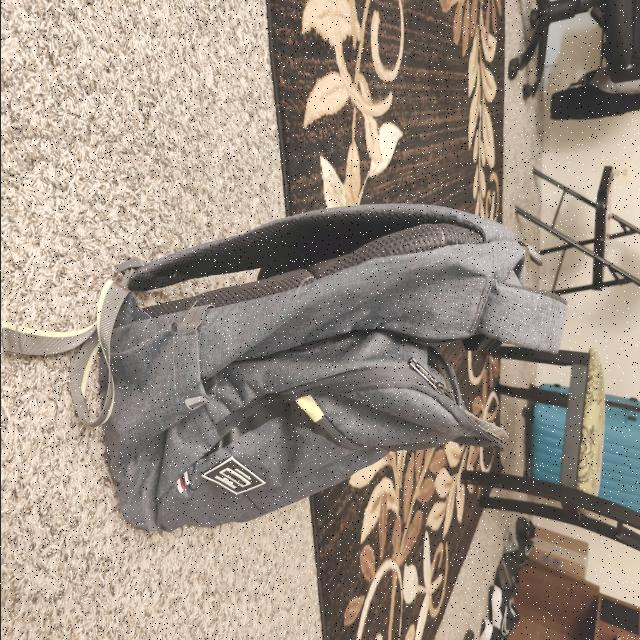bag: (97, 223, 565, 502)
